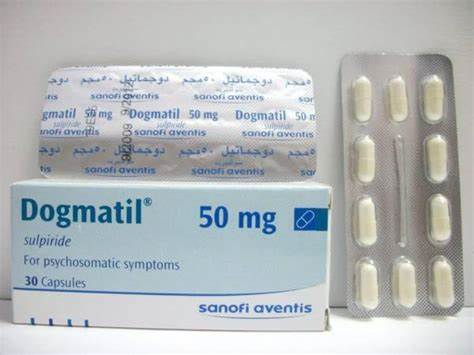Medicine: (8, 178, 329, 334), (45, 66, 320, 179)
